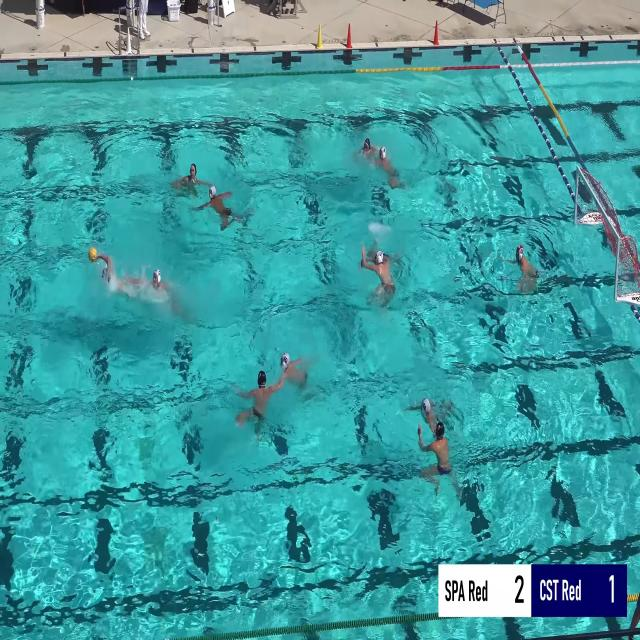ball: (88, 247, 96, 262)
